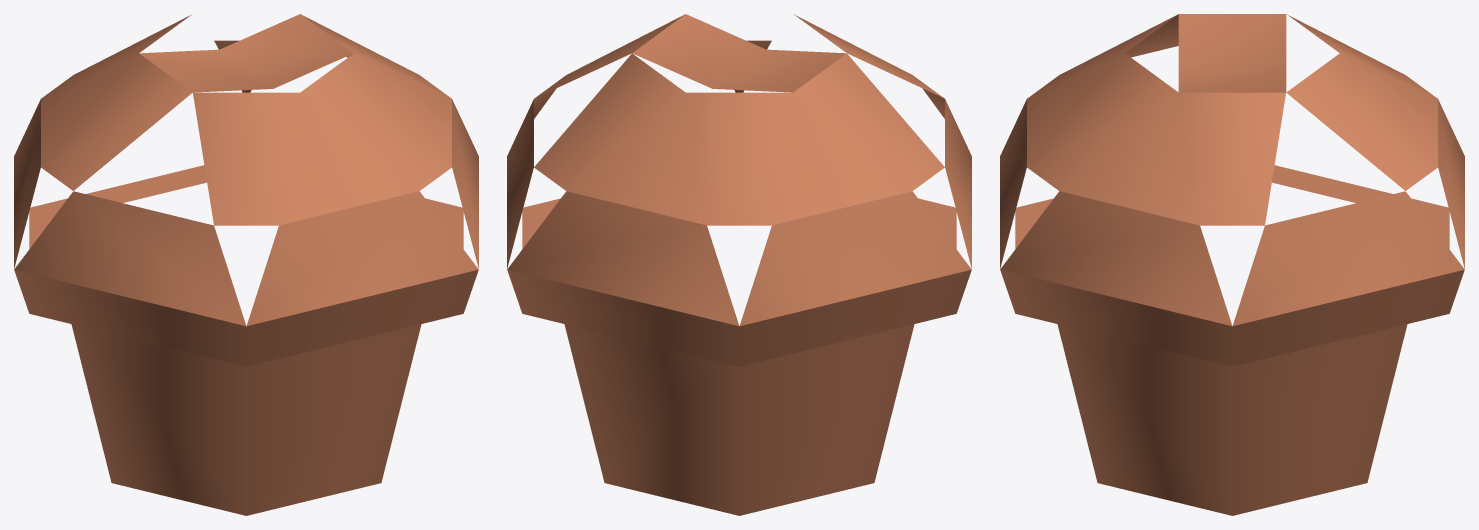
The model's file is cake_cooked.glb.
3 views of the same model, side by side, from view 1: azimuth 30°, elevation 25°; view 2: azimuth 150°, elevation 25°; view 3: azimuth 270°, elevation 25° (orthographic).
Visible parts, largest first — view 1: cake_cooked; view 2: cake_cooked; view 3: cake_cooked.
Boxes of the visible parts, x1=… form: cake_cooked: x1=14, y1=14, x2=478, y2=515; cake_cooked: x1=507, y1=14, x2=971, y2=515; cake_cooked: x1=1000, y1=14, x2=1464, y2=515.
Size of the model in its own units: 0.3047 by 0.2486 by 0.2639.
